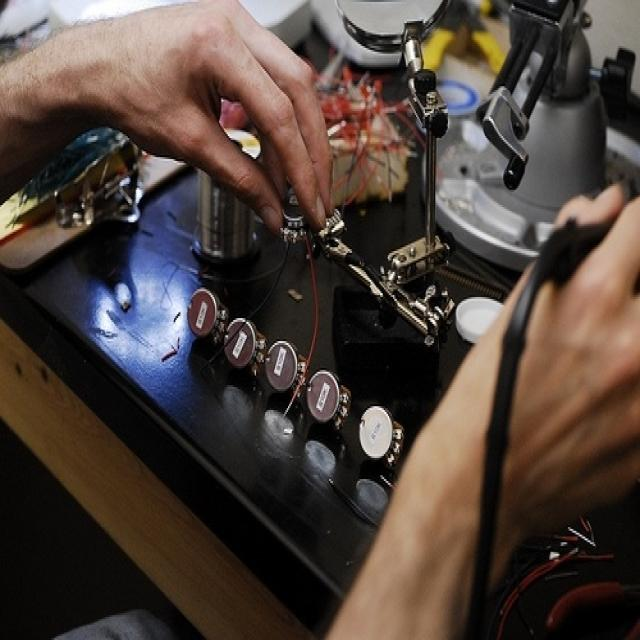E-waste: (70, 204, 409, 544), (326, 11, 640, 197)
